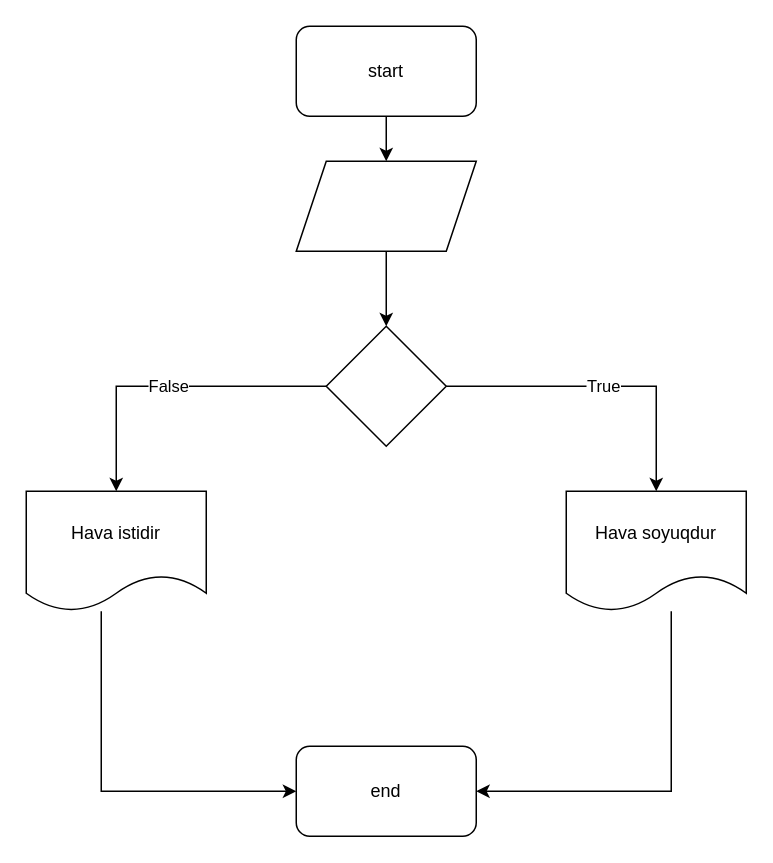
Image size: 773x863. Some labels were removed from this diagram. Each missing label, with the centre of its shape:
"N<15" goes at point 385,385.
"N=Havanin Temperaturu" goes at point 385,205.
